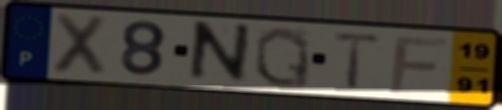8: (119, 19, 168, 79)
F: (386, 35, 452, 94)
N: (184, 19, 254, 86)
Q: (252, 25, 313, 90)
T: (329, 30, 386, 91)
X: (47, 11, 111, 79)
